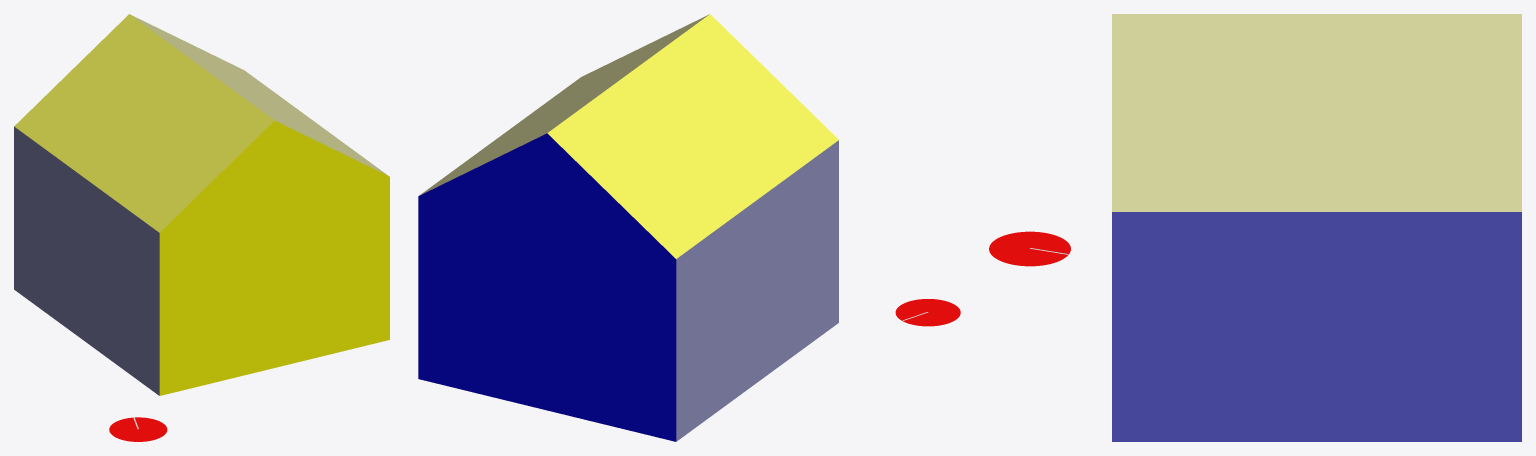
The model's file is result.glb.
3 renders of one model, left to right at view 1: azimuth 30°, elevation 25°; view 2: azimuth 150°, elevation 25°; view 3: azimuth 270°, elevation 25°, orthographic. The views are drawn at different scales.
Parts seen in each view (by area): view 1: 6baf0614-c1ca-493d-8fcd-1f9f4b4e434f__undefined, 54dfb484-ab74-4dce-a0f7-85daeb42fb2c__undefined, aff6712c-acf7-4acd-b1c2-05e6c2428765__undefined, 30019175-4f71-4c99-8c9a-41c2aad543ab__undefined, 0a8e7a0b-a244-4f67-8da6-eddfdaff3211__Circle; view 2: 2747d82f-ac0d-47a0-80dc-871b8b834f05__undefined, 54dfb484-ab74-4dce-a0f7-85daeb42fb2c__undefined, aff6712c-acf7-4acd-b1c2-05e6c2428765__undefined, 30019175-4f71-4c99-8c9a-41c2aad543ab__undefined, 0a8e7a0b-a244-4f67-8da6-eddfdaff3211__Circle; view 3: bb5be550-68bf-4474-9231-a543743c7bd1__undefined, 30019175-4f71-4c99-8c9a-41c2aad543ab__undefined, 0a8e7a0b-a244-4f67-8da6-eddfdaff3211__Circle.
Part boxes in pixels (left/top/right/bottom): 6baf0614-c1ca-493d-8fcd-1f9f4b4e434f__undefined: left=159, top=120, right=389, bottom=395; 54dfb484-ab74-4dce-a0f7-85daeb42fb2c__undefined: left=14, top=14, right=274, bottom=232; aff6712c-acf7-4acd-b1c2-05e6c2428765__undefined: left=14, top=126, right=159, bottom=395; 30019175-4f71-4c99-8c9a-41c2aad543ab__undefined: left=130, top=14, right=388, bottom=175; 0a8e7a0b-a244-4f67-8da6-eddfdaff3211__Circle: left=109, top=417, right=167, bottom=441; 2747d82f-ac0d-47a0-80dc-871b8b834f05__undefined: left=418, top=133, right=676, bottom=441; 54dfb484-ab74-4dce-a0f7-85daeb42fb2c__undefined: left=547, top=14, right=838, bottom=258; aff6712c-acf7-4acd-b1c2-05e6c2428765__undefined: left=676, top=140, right=838, bottom=441; 30019175-4f71-4c99-8c9a-41c2aad543ab__undefined: left=419, top=14, right=709, bottom=195; 0a8e7a0b-a244-4f67-8da6-eddfdaff3211__Circle: left=895, top=299, right=960, bottom=326; bb5be550-68bf-4474-9231-a543743c7bd1__undefined: left=1112, top=212, right=1521, bottom=441; 30019175-4f71-4c99-8c9a-41c2aad543ab__undefined: left=1112, top=14, right=1521, bottom=211; 0a8e7a0b-a244-4f67-8da6-eddfdaff3211__Circle: left=989, top=231, right=1070, bottom=266.
Size of the model in its own units: 607 by 469 by 650.
